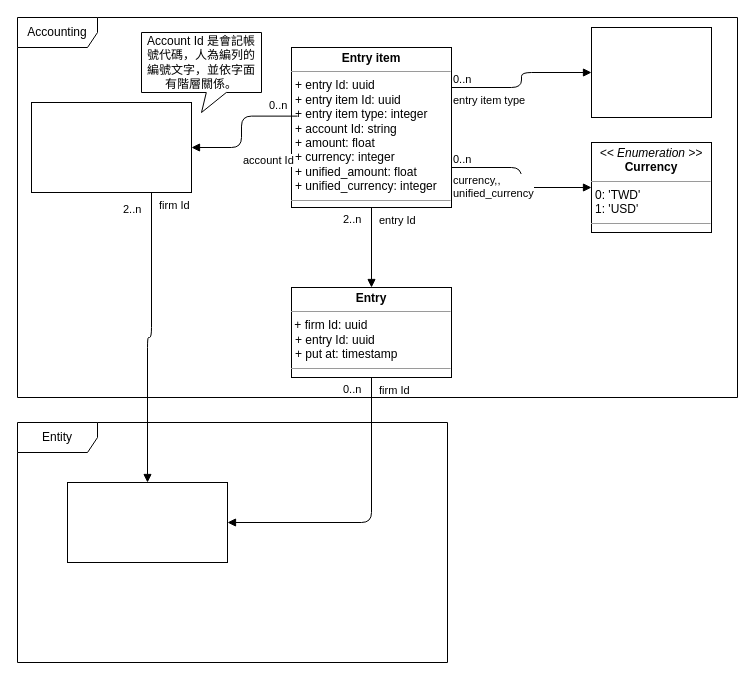
Some shapes in this 755 by 680 pixel diagram are drawn without their labels. The centre of each missing label's shape, as x and y in pixels:
"<< Enumeration >> Entry item type 0: 'debt' 1: 'credit'" belongs at pixel 651 72.
"Account + firm Id: uuid + account name: string + account Id: string" belongs at pixel 111 147.
"Firm + firm Id: uuid + firm name: string" belongs at pixel 147 522.
